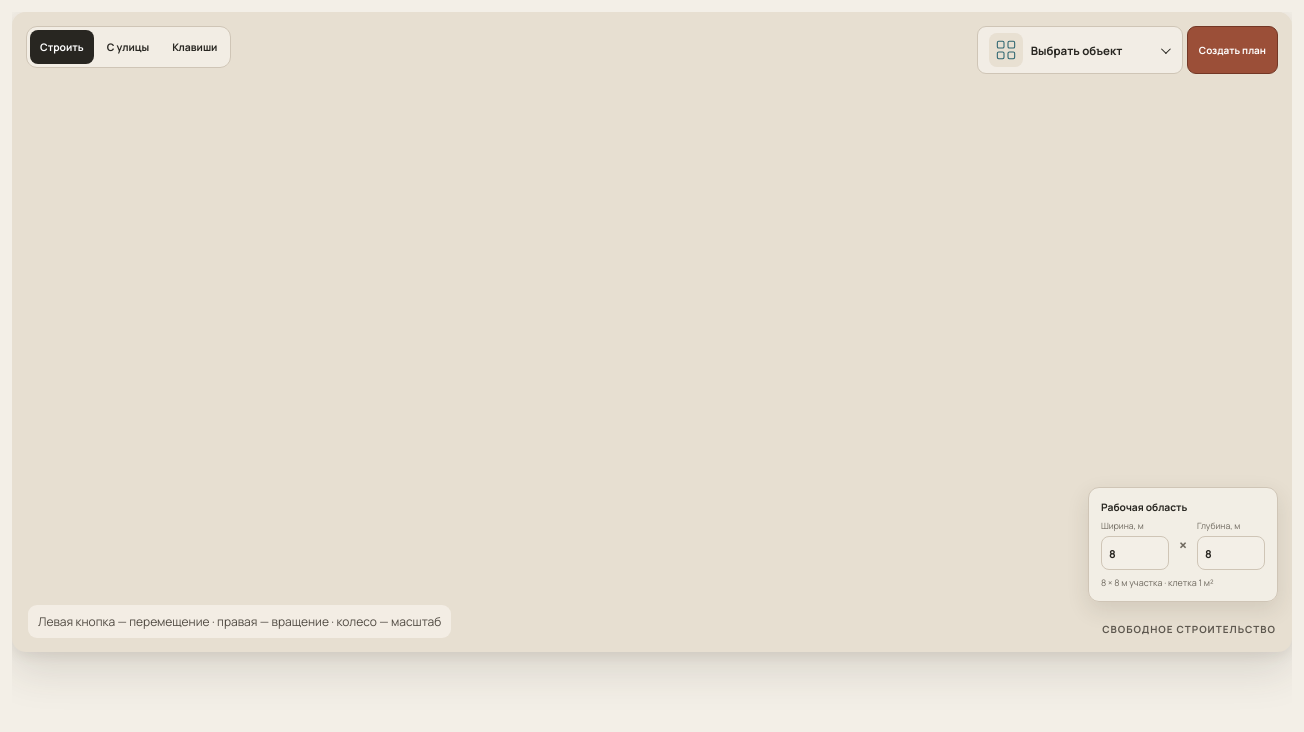
3D construction interface › переключает строительство на просмотр с улицы
What coordinates should you click on to do the following:
click the button "С улицы"
I would click on:
 (128, 47)
Its box is [97,30,159,64].
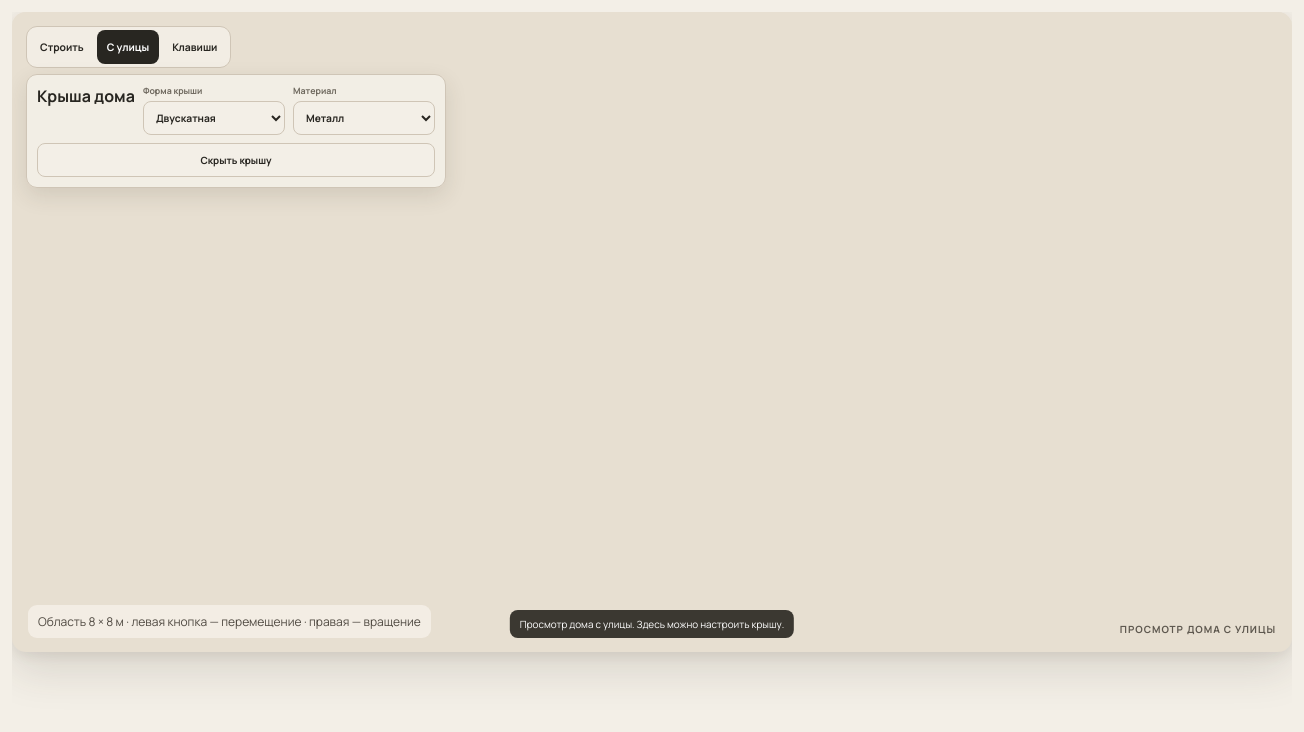
Now the text "Свободное строительство" is gone
Now the element named "Настройка крыши" is shown, box [26,74,446,188]
Now the text "Просмотр дома с улицы" is shown, box [1120,622,1276,636]
